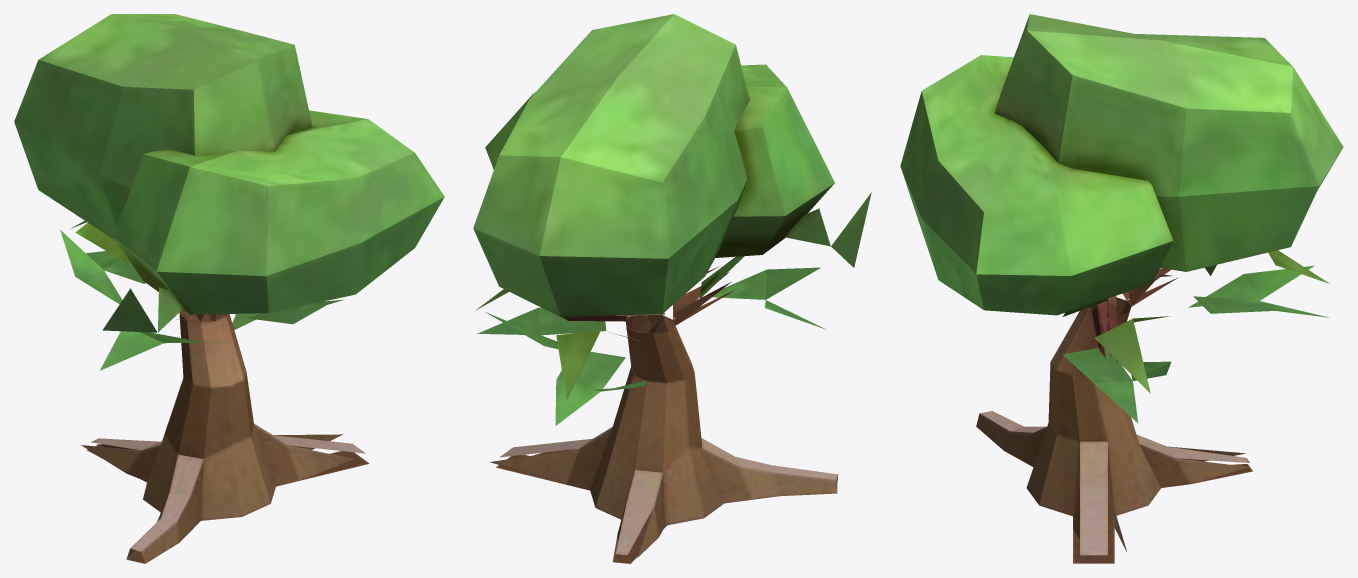
Rendered from arbol-2-lejos.glb.
3 renders of one model, left to right at view 1: azimuth 30°, elevation 25°; view 2: azimuth 150°, elevation 25°; view 3: azimuth 270°, elevation 25°, orthographic. The views are drawn at different scales.
Parts seen in each view (by area): view 1: Hojas2, Arbol2; view 2: Hojas2, Arbol2; view 3: Hojas2, Arbol2.
Part boxes in pixels (left/top/right/bottom): Hojas2: left=14, top=14, right=444, bottom=370; Arbol2: left=81, top=309, right=369, bottom=563; Hojas2: left=473, top=14, right=871, bottom=425; Arbol2: left=490, top=266, right=838, bottom=563; Hojas2: left=900, top=14, right=1343, bottom=423; Arbol2: left=976, top=268, right=1252, bottom=563.
Size of the model in its own units: 3.97 by 5.17 by 4.45.
Materials: 2 (2 with a texture image).
